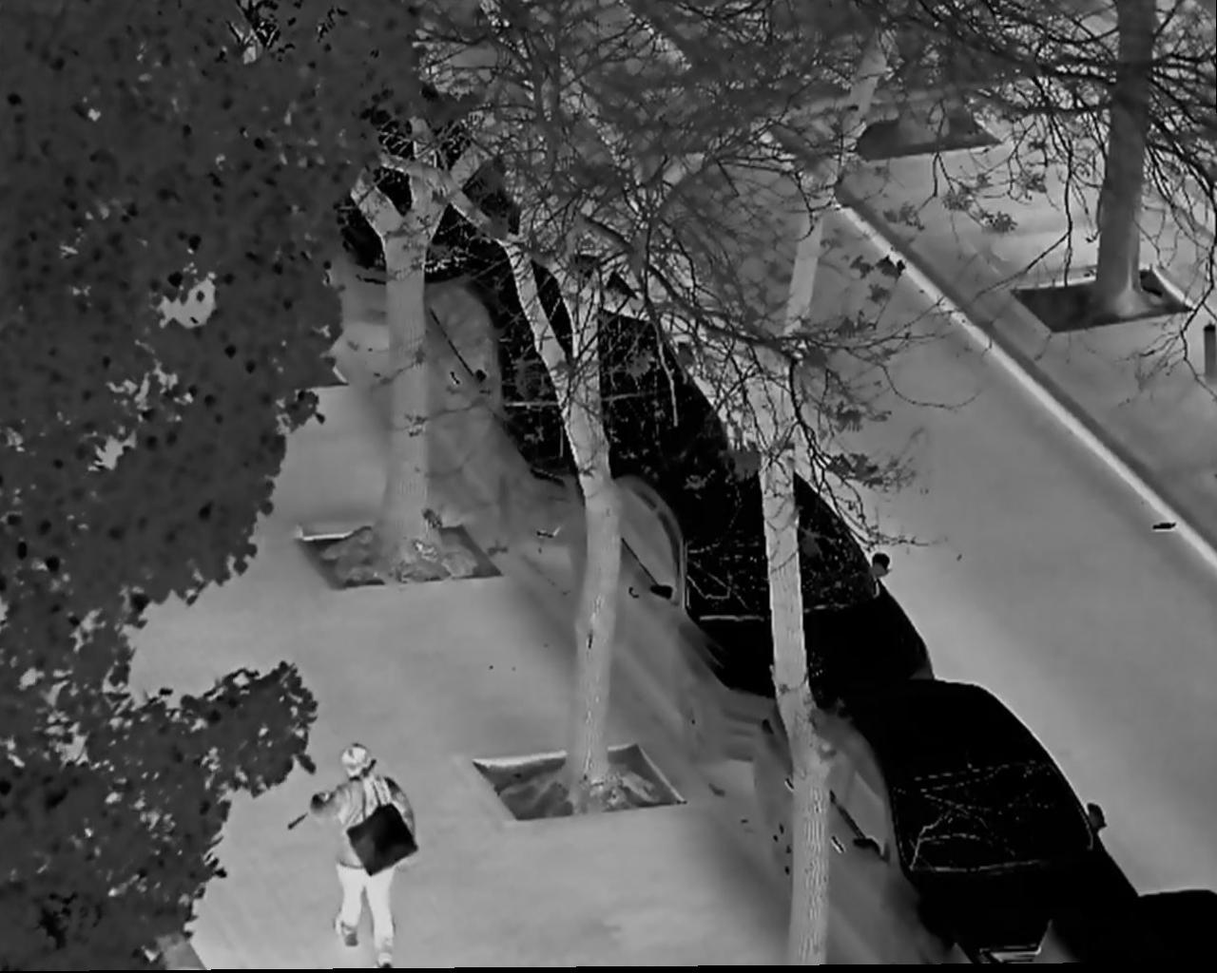person: (307, 739, 428, 963)
